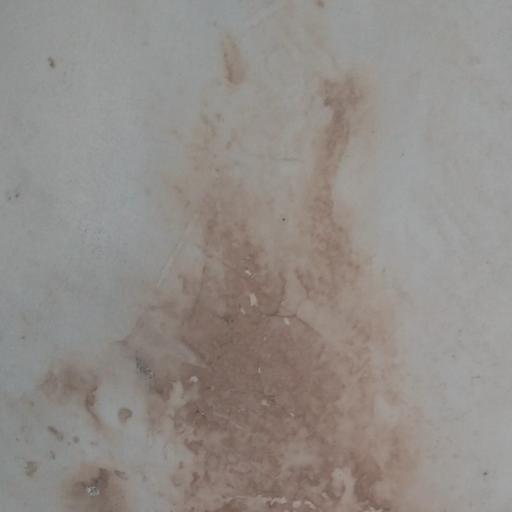stain: (79, 31, 448, 512), (8, 338, 175, 512), (0, 170, 36, 217), (39, 33, 66, 89)
